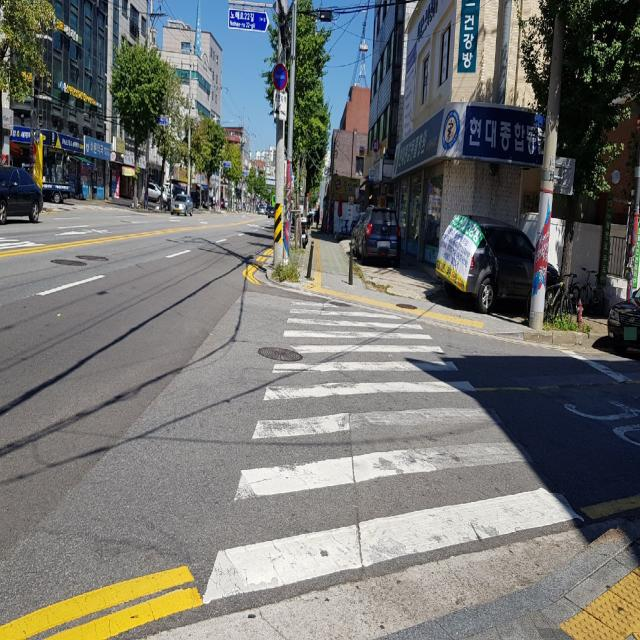횡단보도: (204, 300, 585, 603)
